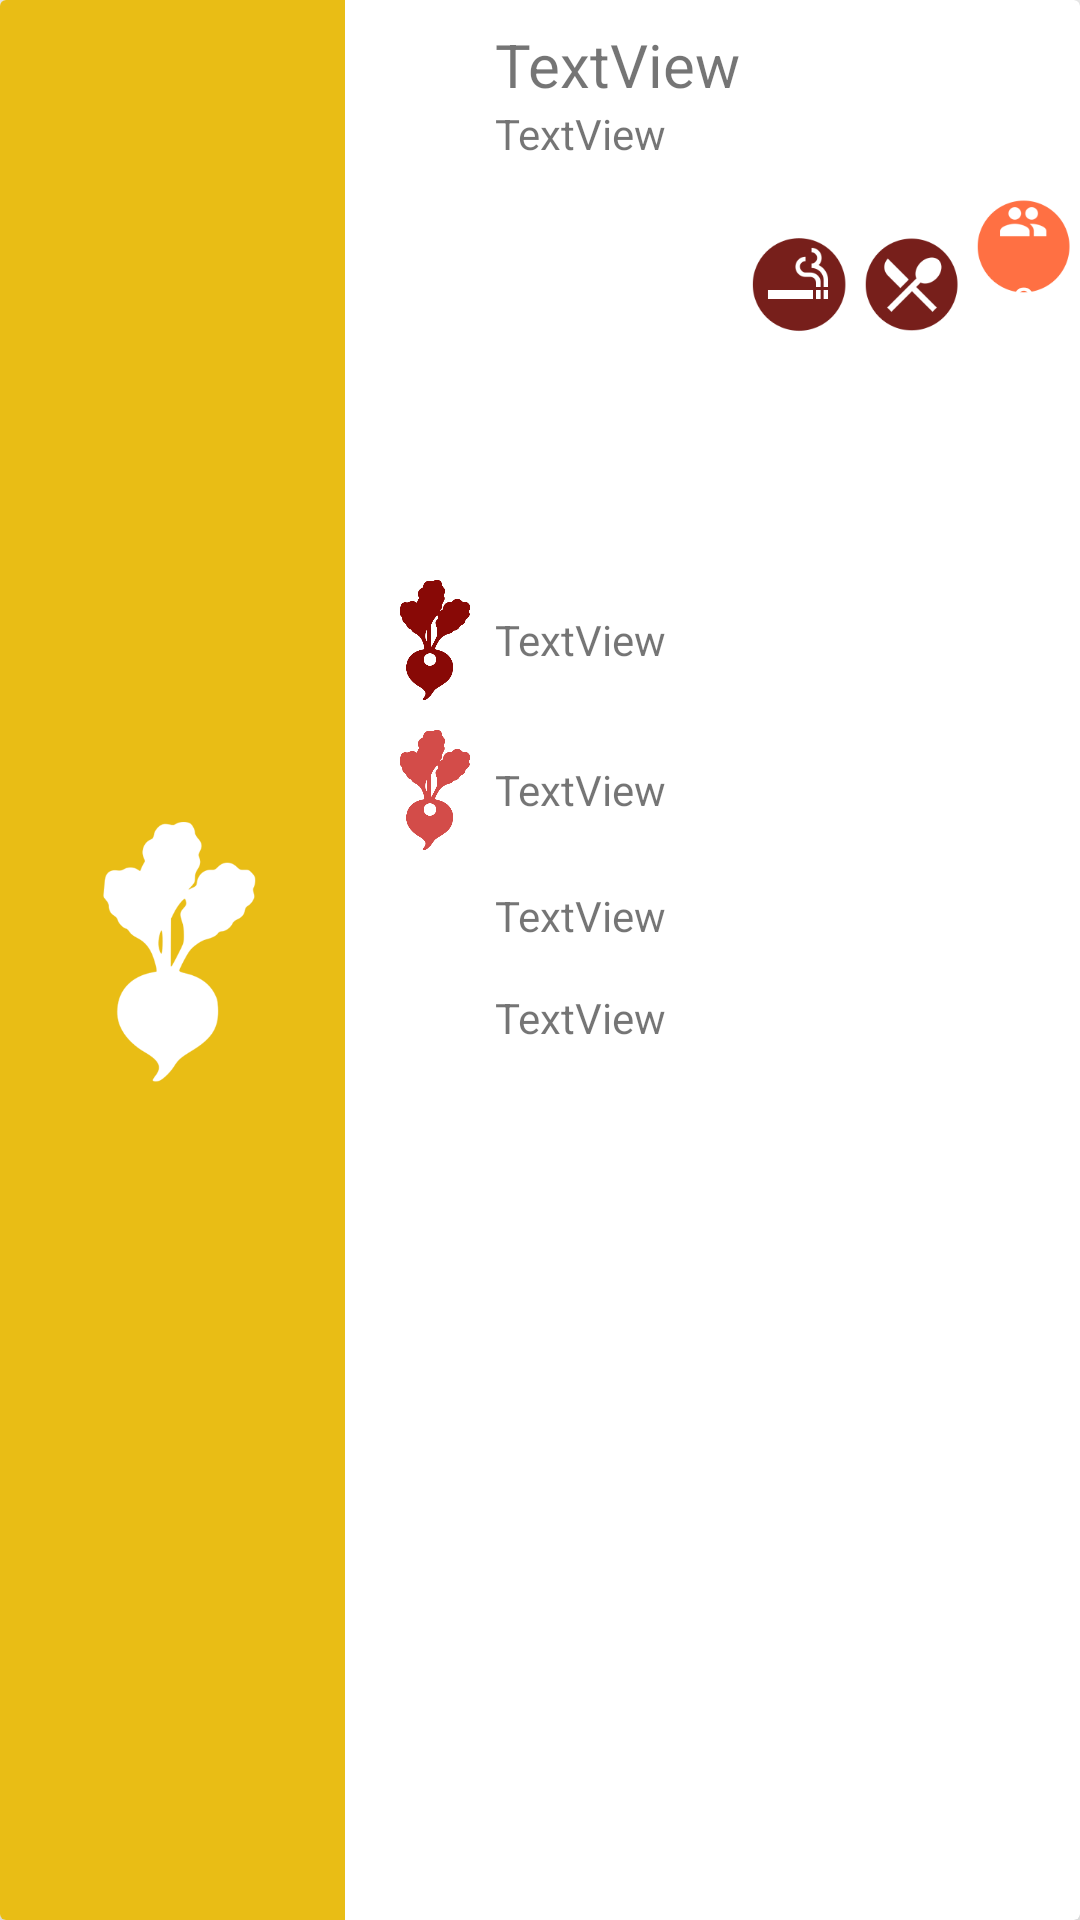

Screen size 1080w x 1920h. Icon name, then its box in pixels as [left=x1, top=y1, right=x2, bottom=y2]:
numpersonas: [left=977, top=200, right=1070, bottom=293]
sicomer: [left=865, top=238, right=958, bottom=331]
sifumar: [left=752, top=238, right=846, bottom=331]
